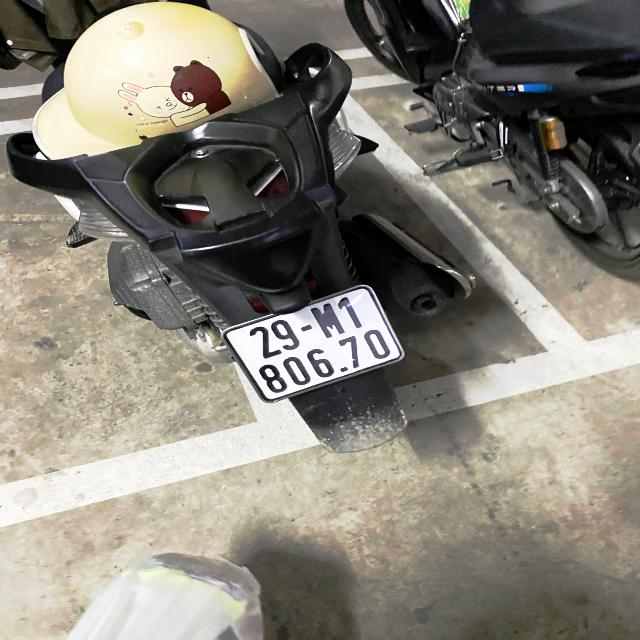license_plate: (213, 282, 411, 407)
